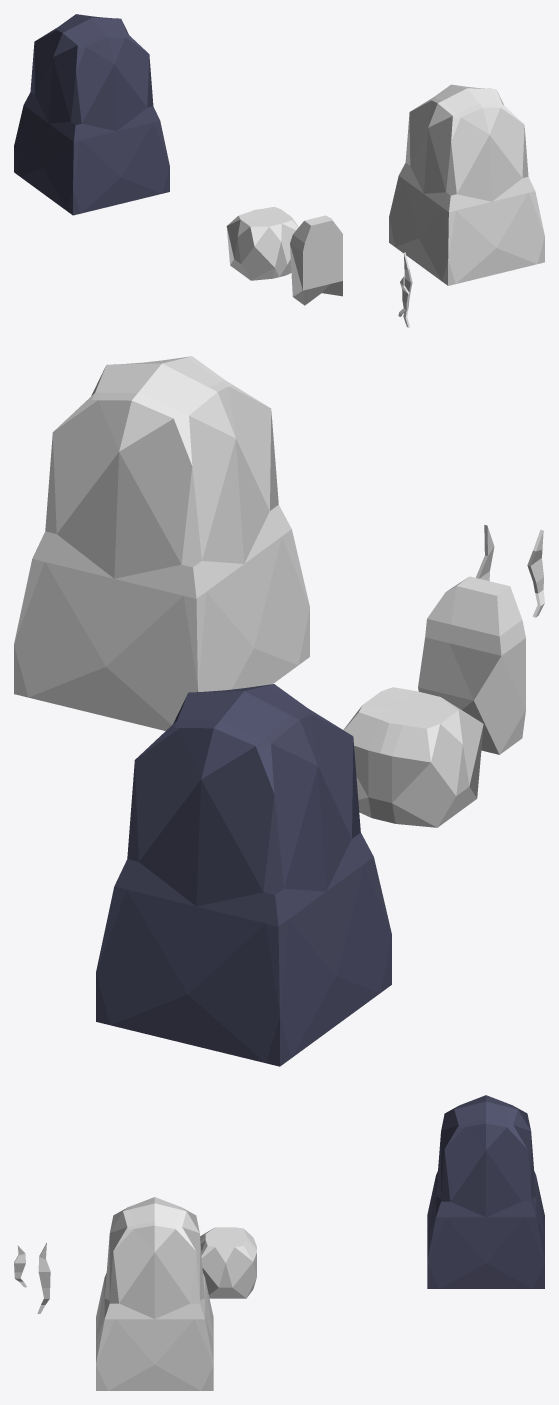
The model's file is Rocks2.fbx.
The picture shows the model from 3 angles, top to bottom: view 1: azimuth 30°, elevation 25°; view 2: azimuth 150°, elevation 25°; view 3: azimuth 270°, elevation 25°; orthographic projection. The views are drawn at different scales.
Visible parts, largest first — view 1: Big Rock, Big Rock.001, Little Rock 1, Long S Rock 1; view 2: Big Rock, Big Rock.001, Little Rock 1, Long S Rock 1, Kelp 1.001; view 3: Big Rock.001, Big Rock, Little Rock 1, Kelp 2.001.
Boxes of the visible parts, box(x1,y1,x2,y2) form: Big Rock: box(14, 14, 169, 215); Big Rock.001: box(389, 84, 544, 285); Little Rock 1: box(226, 206, 298, 280); Long S Rock 1: box(290, 215, 342, 305); Big Rock: box(96, 684, 391, 1066); Big Rock.001: box(14, 356, 309, 730); Little Rock 1: box(343, 687, 483, 827); Long S Rock 1: box(418, 576, 525, 754); Kelp 1.001: box(527, 529, 544, 617); Big Rock.001: box(96, 1197, 213, 1390); Big Rock: box(427, 1095, 544, 1288); Little Rock 1: box(200, 1227, 256, 1298); Kelp 2.001: box(37, 1243, 50, 1313).
Size of the model in its own units: 1870 by 980 by 2815.
